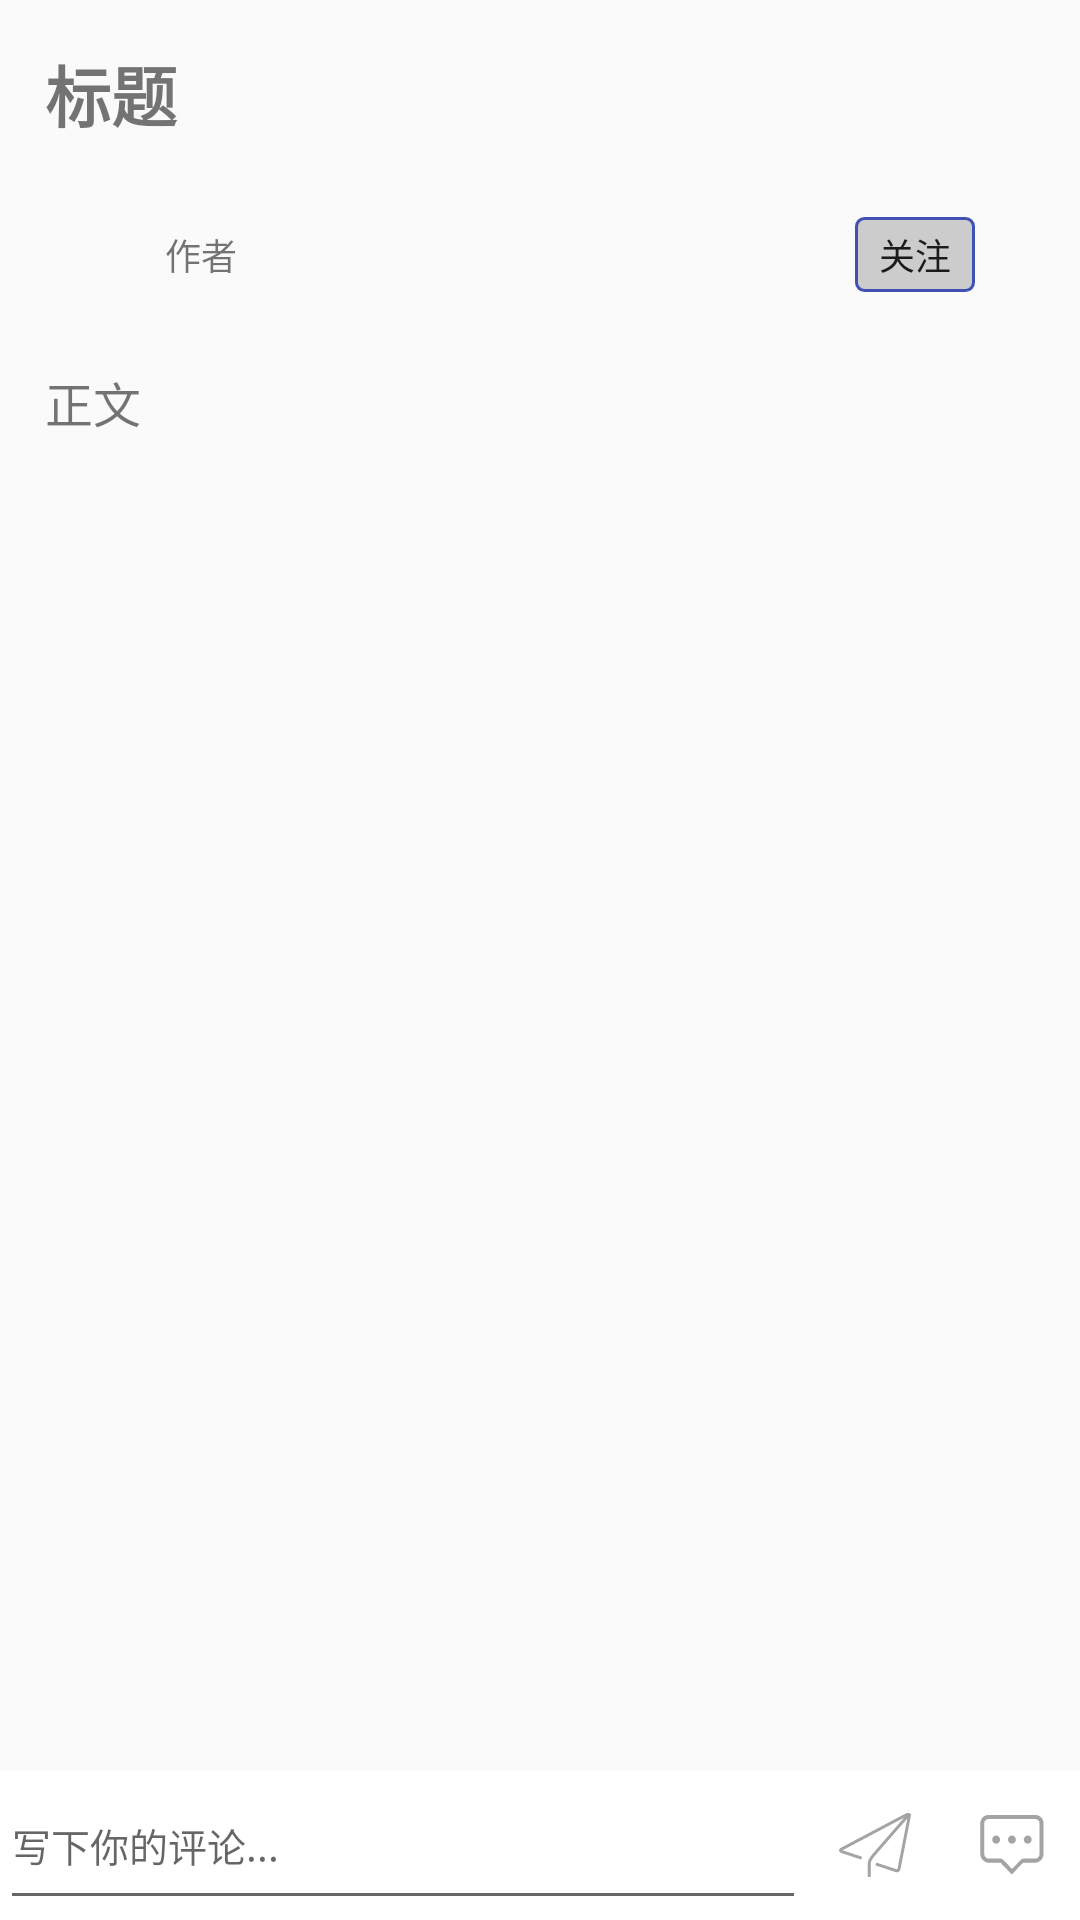

Icons on this 1080px×1920px Android screen, each with the point to tap as [x,y]:
comment: [1012,1844]
comment send: [875,1845]
